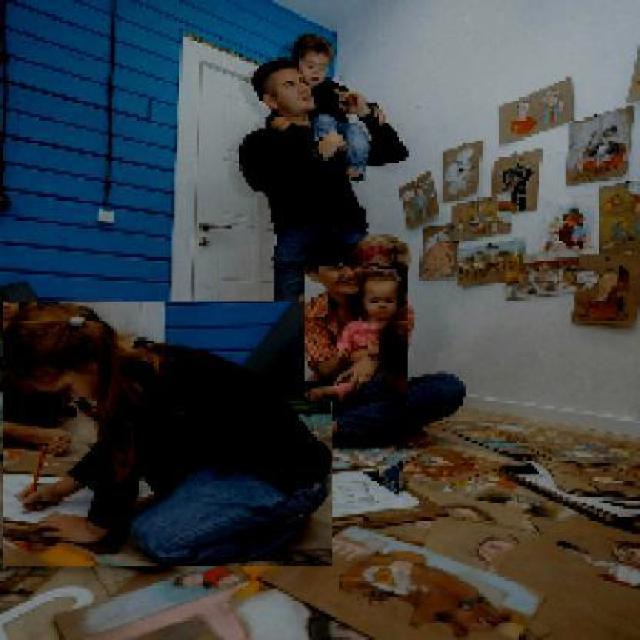child: (1, 302, 332, 568), (303, 266, 408, 403), (296, 32, 373, 179)
